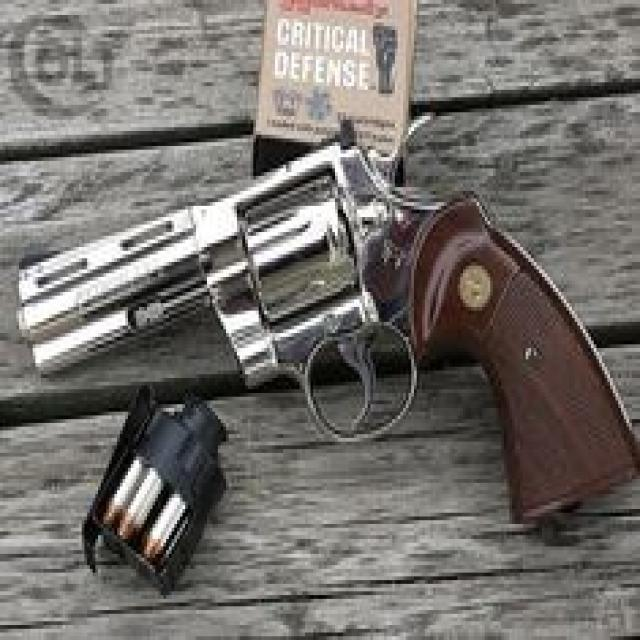revolver: (11, 112, 640, 588)
